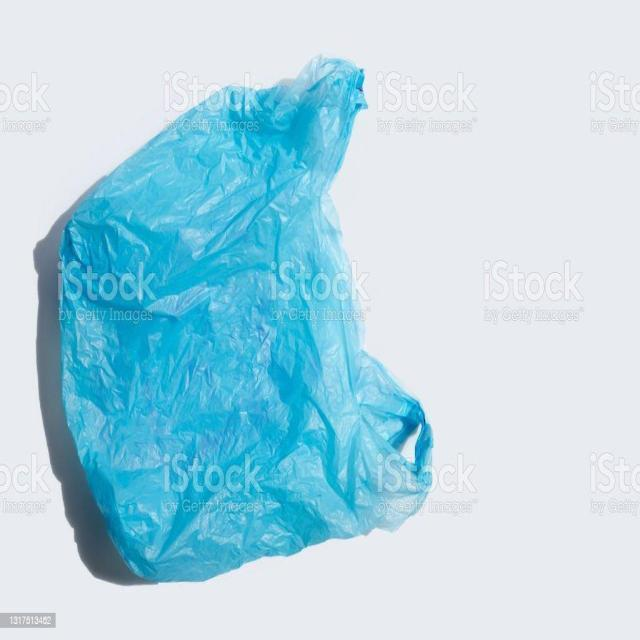Plastic_Bag: (58, 57, 432, 584)
